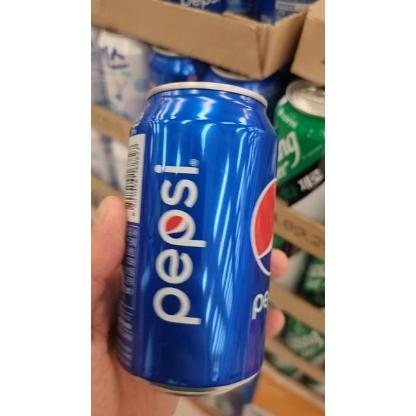Can: (117, 80, 279, 395)
